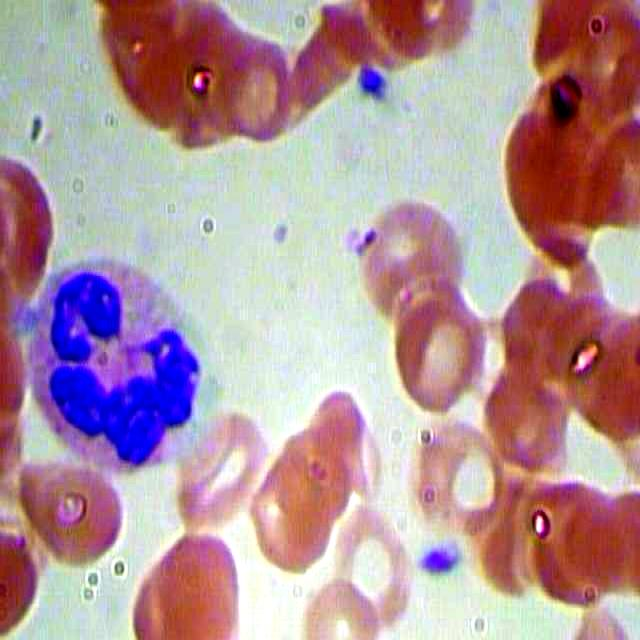Platelets: (417, 537, 463, 587), (351, 59, 397, 108)
RBC: (495, 109, 605, 272), (251, 415, 344, 585), (349, 195, 475, 320), (377, 280, 483, 419), (14, 446, 125, 578), (401, 399, 507, 537), (126, 524, 251, 639), (519, 474, 622, 606), (476, 342, 579, 474), (489, 258, 592, 390), (296, 375, 386, 516), (168, 405, 264, 536), (329, 501, 412, 636), (564, 310, 640, 438), (220, 26, 303, 142), (299, 574, 381, 640)
WBC: (2, 249, 228, 479)
